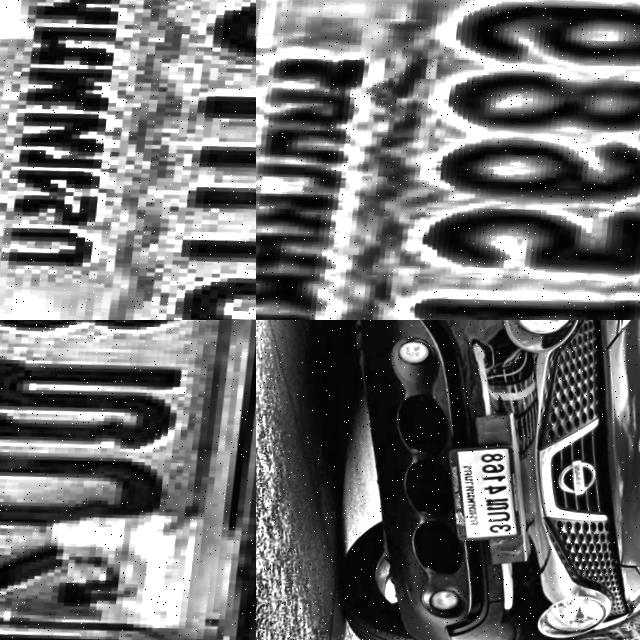license-plate: (256, 0, 640, 320), (0, 0, 256, 320), (0, 320, 256, 640), (436, 438, 542, 547)
